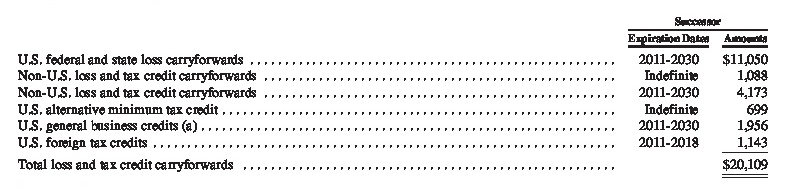table: (0, 0, 785, 188)
